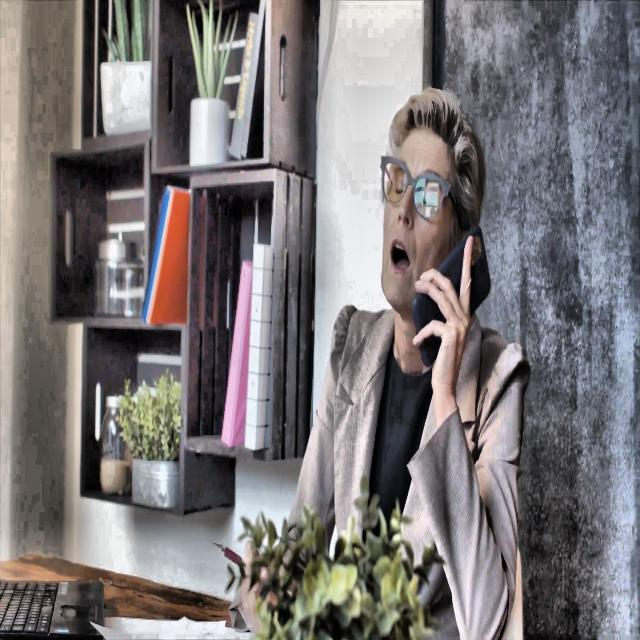Phone: (412, 223, 492, 369)
